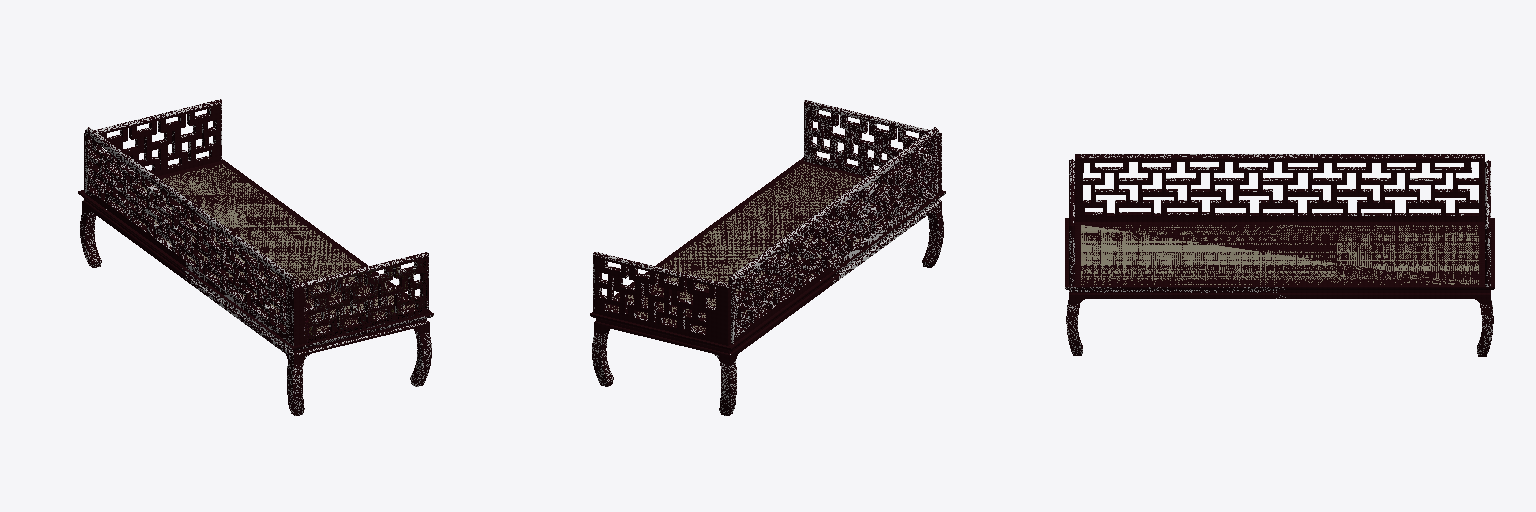
3 renders of one model, left to right at view 1: azimuth 30°, elevation 25°; view 2: azimuth 150°, elevation 25°; view 3: azimuth 270°, elevation 25°, orthographic.
Parts seen in each view (by area): view 1: mesh1.001_mesh1-geometry; view 2: mesh1.001_mesh1-geometry; view 3: mesh1.001_mesh1-geometry.
Part boxes in pixels (bbox=[...]): mesh1.001_mesh1-geometry: bbox=[78, 99, 433, 415]; mesh1.001_mesh1-geometry: bbox=[590, 100, 945, 415]; mesh1.001_mesh1-geometry: bbox=[1065, 154, 1494, 356].
Bounding box in the file's own units: 0.3382 × 0.3161 × 0.8864.
Materials: 6 (5 with a texture image).